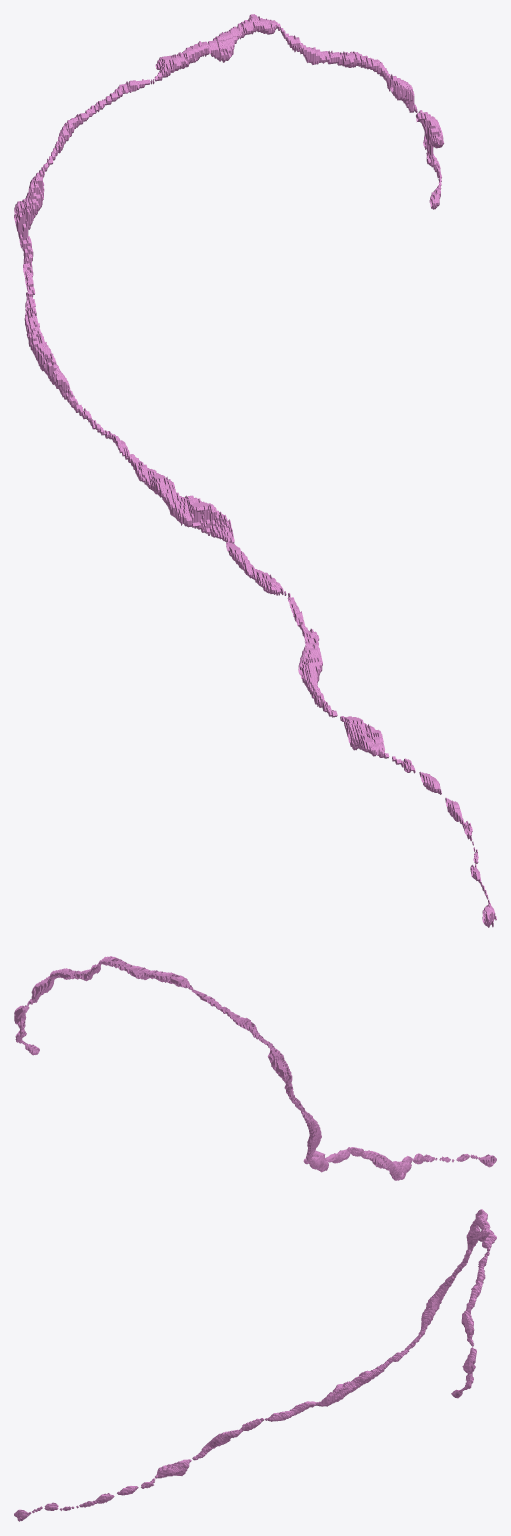
Rendered from SVV_PVCL.gltf.
3 views of the same model, one above another, from view 1: azimuth 30°, elevation 25°; view 2: azimuth 150°, elevation 25°; view 3: azimuth 270°, elevation 25° (orthographic). The views are drawn at different scales.
Parts seen in each view (by area): view 1: PVCL; view 2: PVCL; view 3: PVCL.
Boxes of the visible parts, <box> form: PVCL: <box>14,14,496,927</box>; PVCL: <box>14,956,496,1180</box>; PVCL: <box>14,1209,496,1521</box>.
Bounding box in the file's own units: 120780 × 151072 × 198107.
